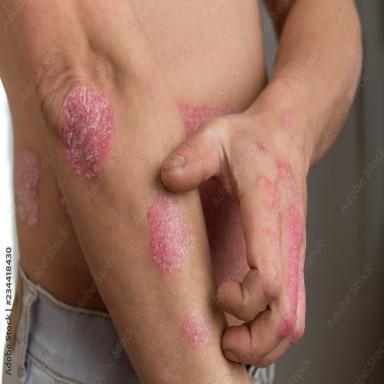Psoriasis: (62, 87, 115, 180), (147, 193, 190, 273), (182, 309, 208, 348)
